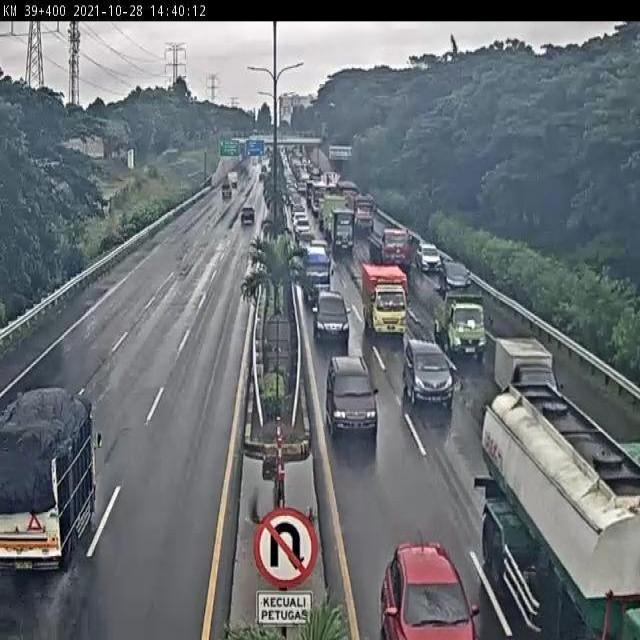bus-s-: (302, 244, 331, 303)
car: (322, 353, 380, 438), (402, 338, 456, 411), (311, 291, 351, 345), (440, 258, 474, 294), (415, 237, 446, 275), (296, 228, 317, 257), (311, 239, 333, 261)
small truck: (0, 387, 95, 580)
truck-m-: (432, 287, 488, 356), (361, 264, 411, 340), (330, 208, 355, 251)
truck-s-: (491, 335, 562, 400)
truck-xl-: (369, 221, 415, 272)
